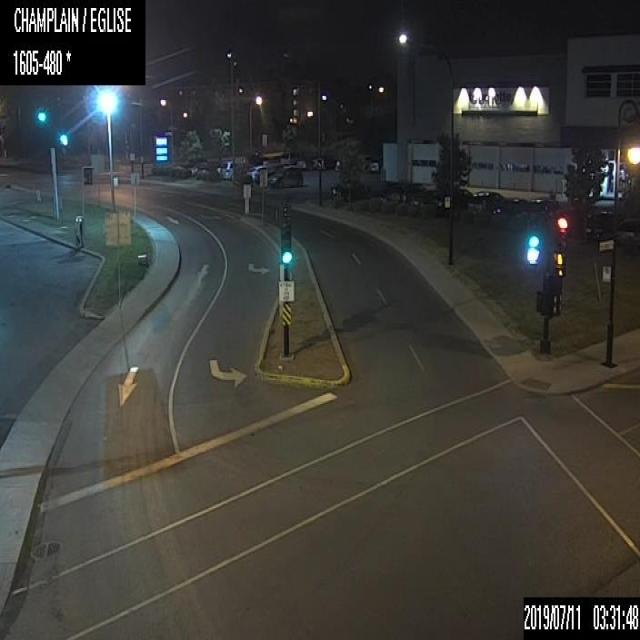vehicle: (437, 186, 472, 214), (585, 208, 614, 239), (467, 190, 502, 213), (330, 178, 370, 198), (491, 196, 527, 217), (268, 165, 303, 186), (400, 181, 427, 207), (525, 196, 560, 216), (413, 187, 438, 214), (378, 180, 406, 204), (247, 164, 274, 182), (296, 153, 315, 169), (280, 150, 300, 164), (219, 158, 232, 178)
